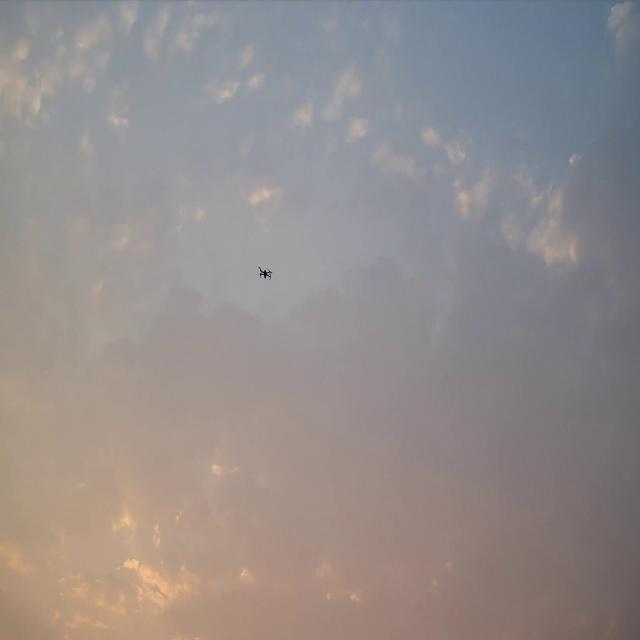UAV: (257, 265, 273, 280)
